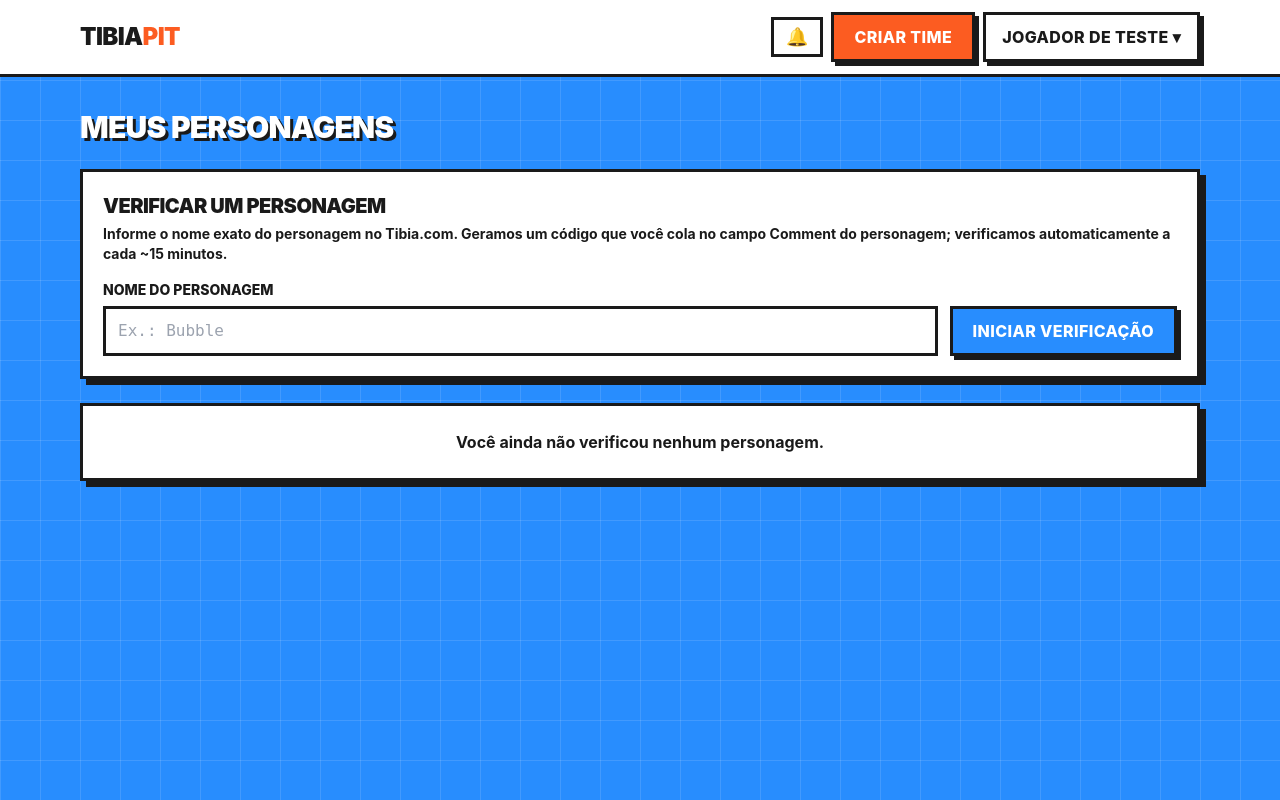
Test: CharactersPage › o campo continua preenchido quando a recusa acontece
Type "Sir Exiva" into the field labelled "Nome do personagem" at (520, 331), box [103,306,938,356]
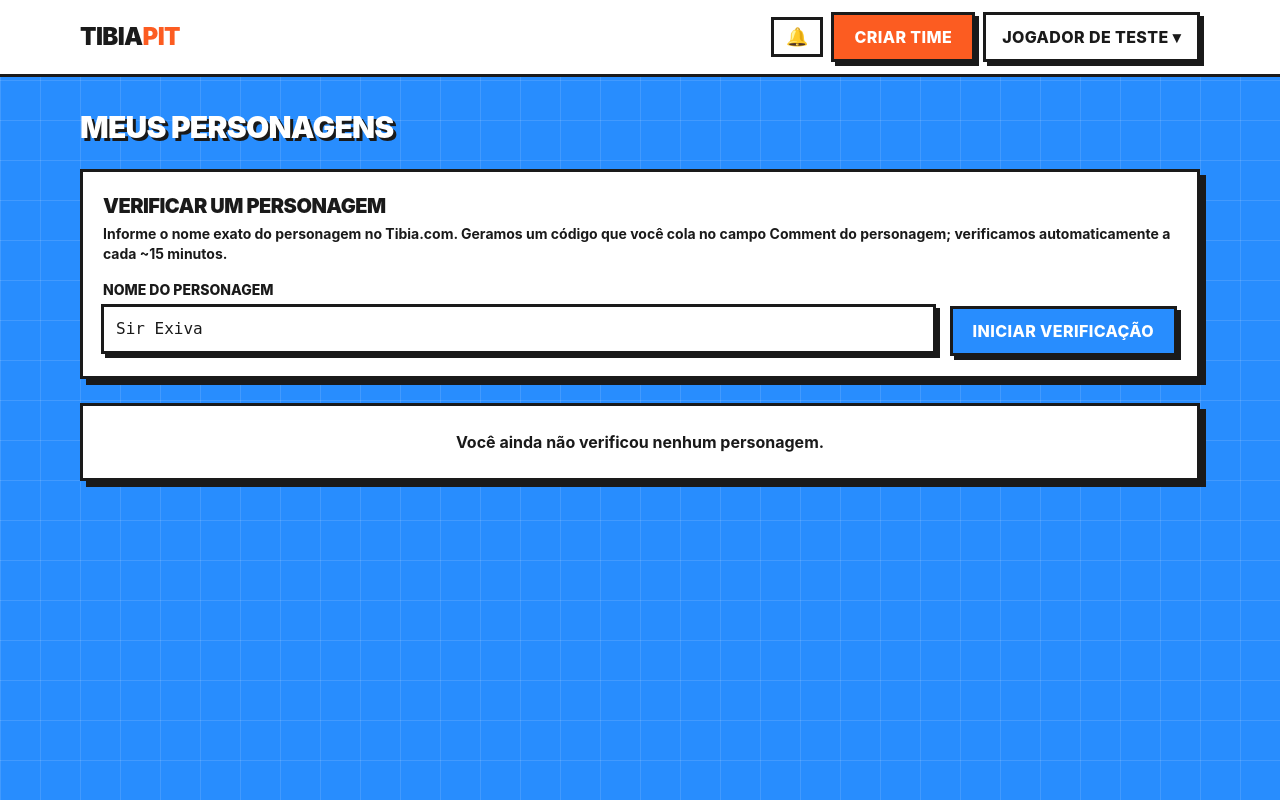
Click the button "Iniciar verificação" at (1063, 331), box [950,306,1177,356]
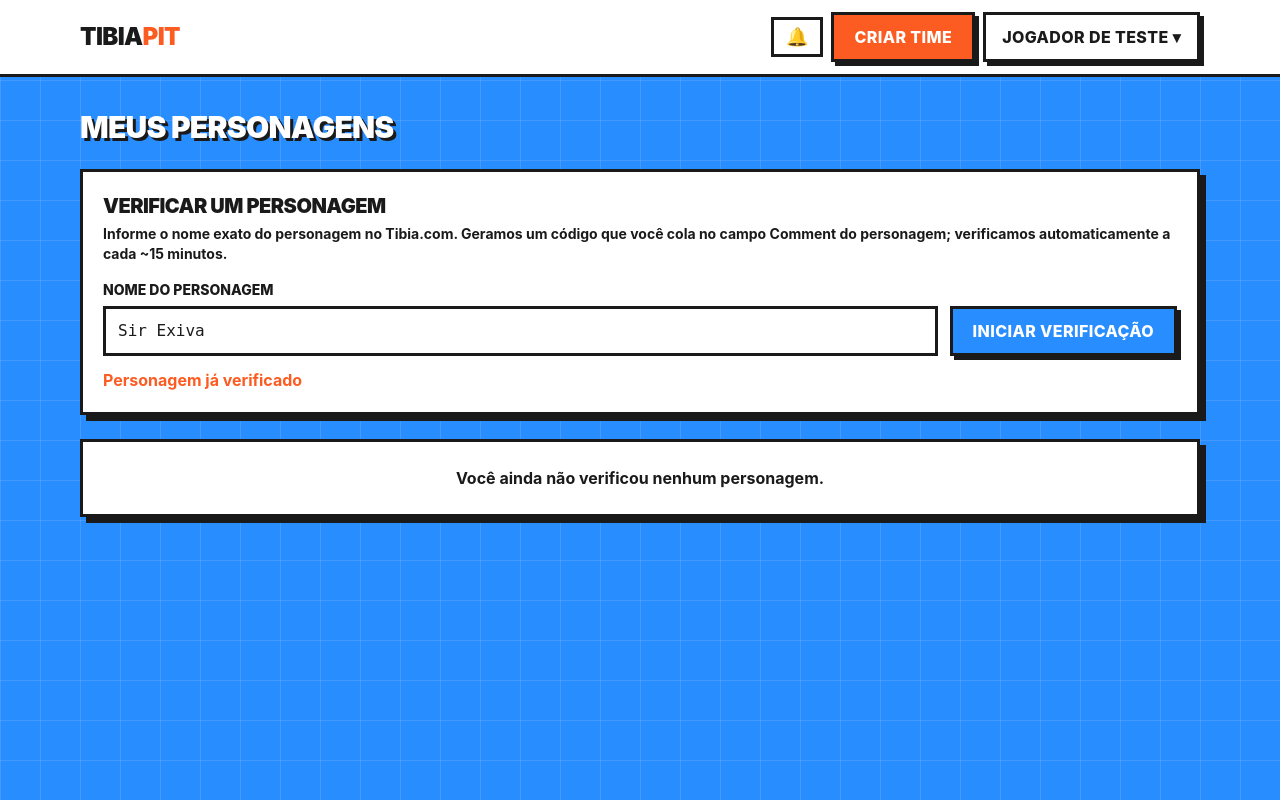
Expected: the text "Personagem já verificado" is shown, [103,370,302,390]
